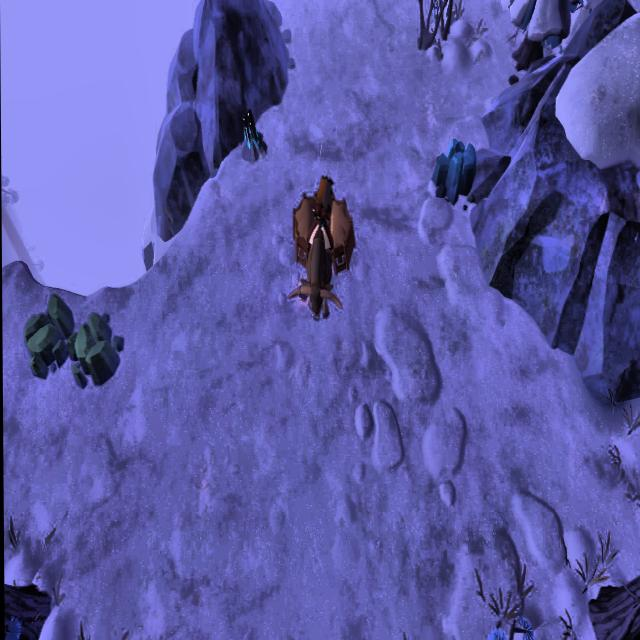ore_t4: (242, 109, 263, 151)
rock_t3: (19, 293, 76, 381), (70, 308, 124, 395)
rock_t4: (429, 136, 481, 207)
